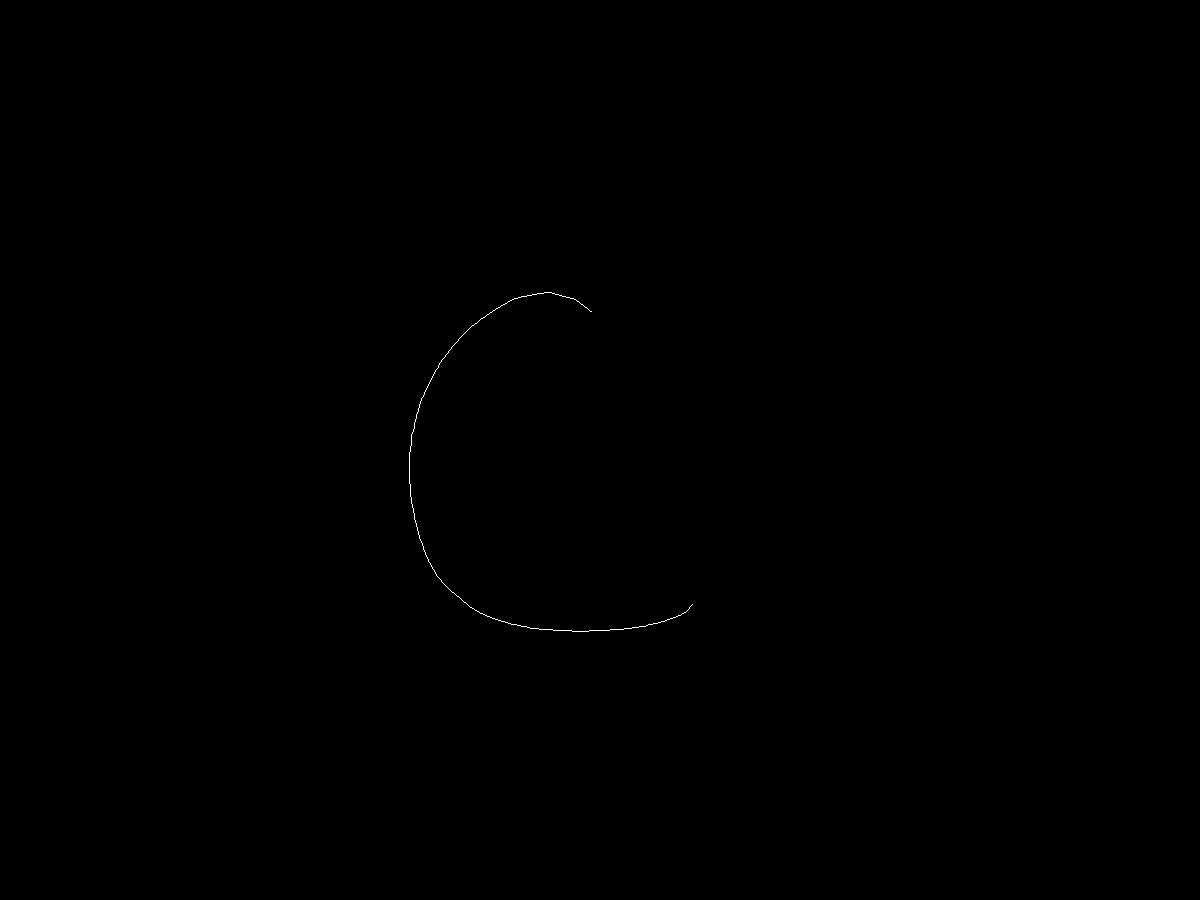dian1: (587, 305, 600, 321)
dian2: (684, 588, 703, 612)
